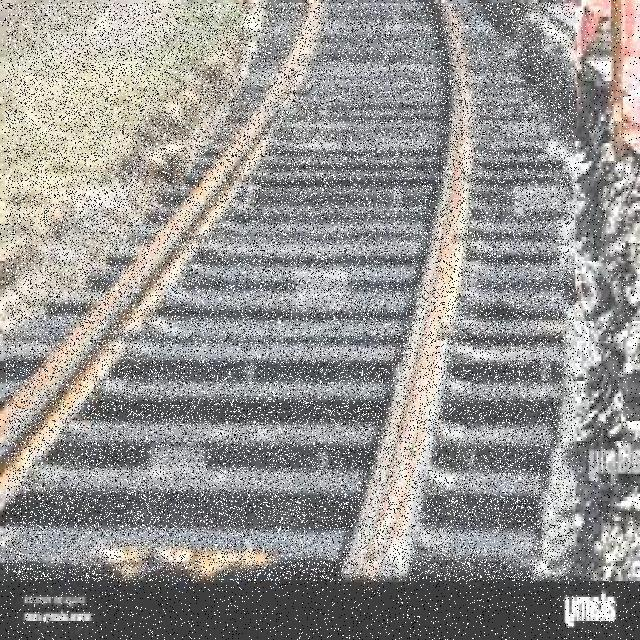rail: (6, 4, 574, 581)
